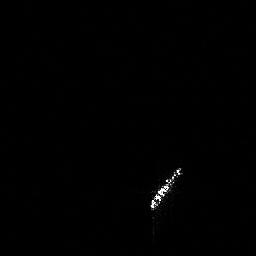ship: (146, 163, 186, 216)
